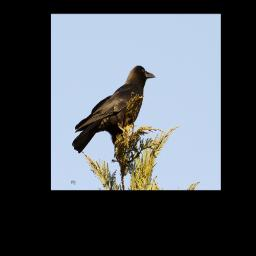Crow: (72, 62, 157, 157)
